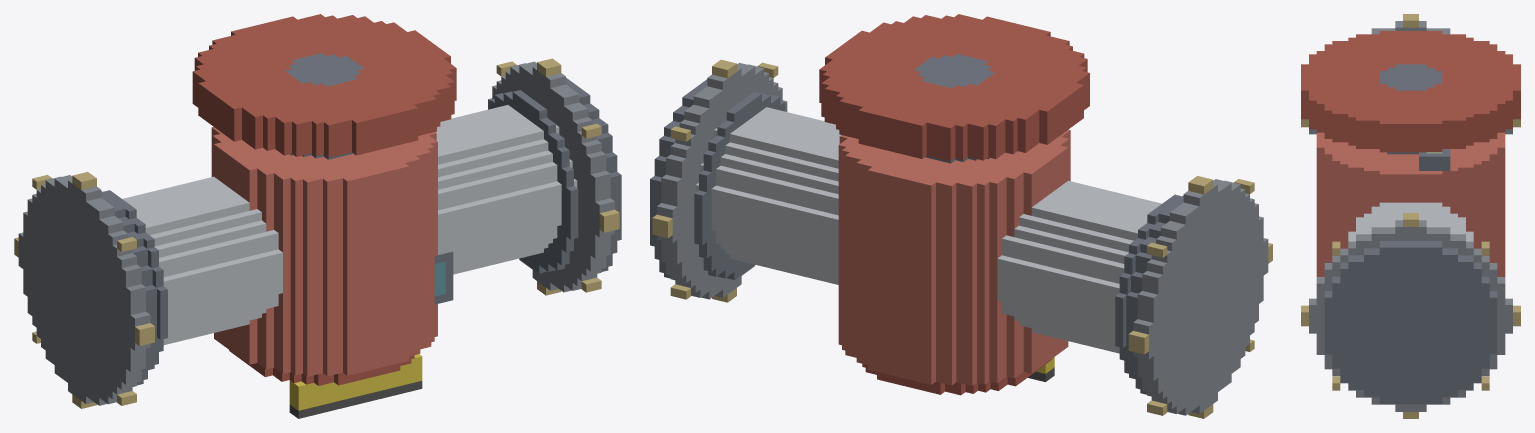
The model's file is valve.glb.
The picture shows the model from 3 angles, left to right: view 1: azimuth 30°, elevation 25°; view 2: azimuth 150°, elevation 25°; view 3: azimuth 270°, elevation 25°; orthographic projection. The views are drawn at different scales.
Visible parts, largest first — view 1: valve; view 2: valve; view 3: valve.
Part boxes in pixels (x1=…): valve: x1=14, y1=14, x2=621, y2=418; valve: x1=650, y1=14, x2=1272, y2=418; valve: x1=1301, y1=14, x2=1520, y2=418.
Size of the model in its own units: 2 by 1.19 by 0.875.
